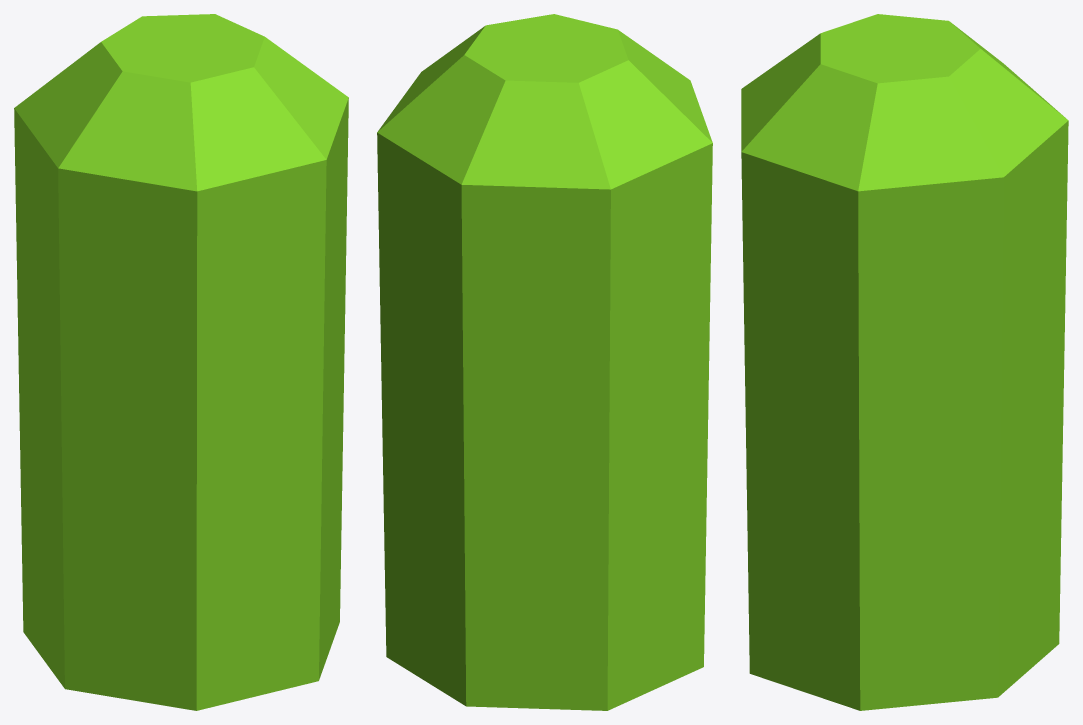
The model's file is Crystal_Green_A.fbx.
The picture shows the model from 3 angles, left to right: view 1: azimuth 30°, elevation 25°; view 2: azimuth 150°, elevation 25°; view 3: azimuth 270°, elevation 25°; orthographic projection.
Visible parts, largest first — view 1: Crystal_Green_A; view 2: Crystal_Green_A; view 3: Crystal_Green_A.
Part boxes in pixels (<box>): Crystal_Green_A: <box>14,14,348,710</box>; Crystal_Green_A: <box>377,14,712,710</box>; Crystal_Green_A: <box>741,14,1068,710</box>.
Size of the model in its own units: 74.54 by 146 by 72.67.
